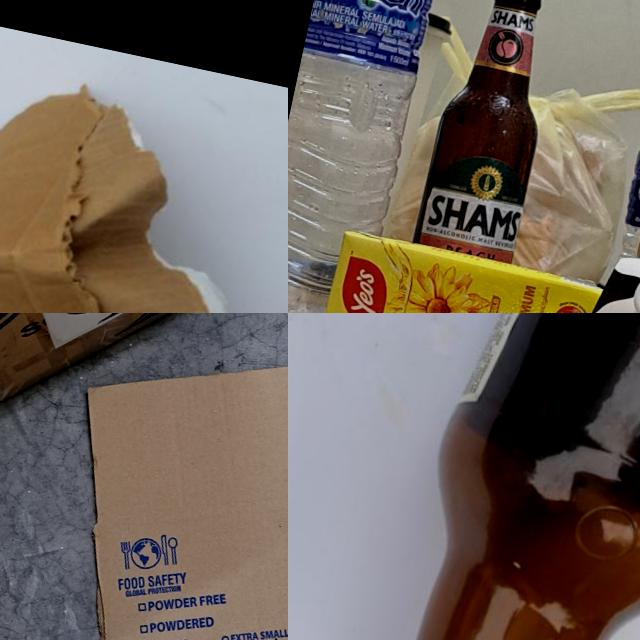caixinha: (317, 225, 608, 313)
garrafa de vidro: (382, 313, 640, 640), (412, 0, 571, 263)
garrafa plástica: (288, 0, 474, 313)
papelão: (24, 313, 288, 640), (0, 35, 268, 313), (0, 313, 266, 440)
